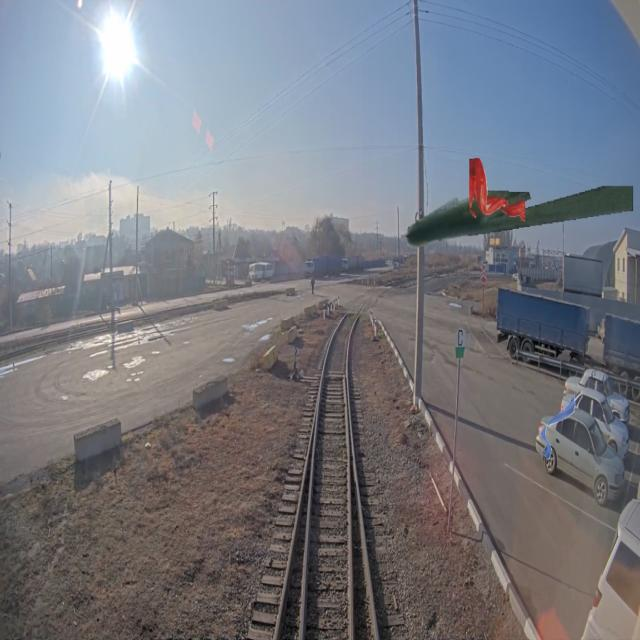floating object: (406, 186, 633, 250), (469, 158, 525, 222), (541, 396, 575, 460)
